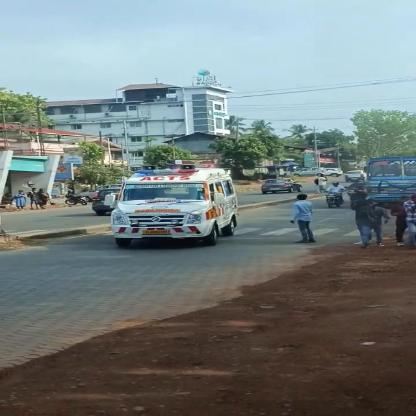priority: (76, 160, 257, 253)
